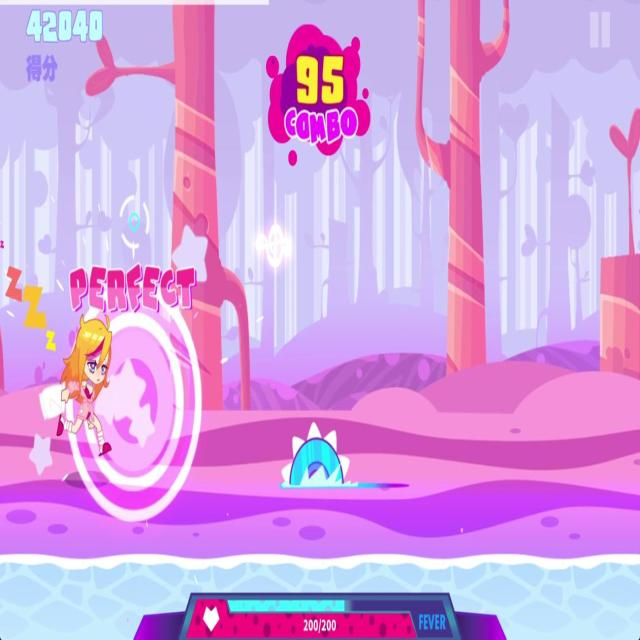ci: (276, 414, 363, 497)
